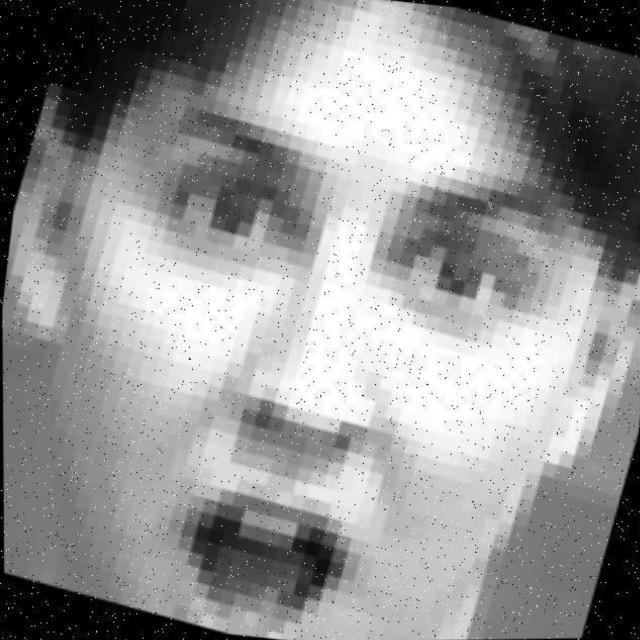Surprised: (0, 63, 588, 640)
